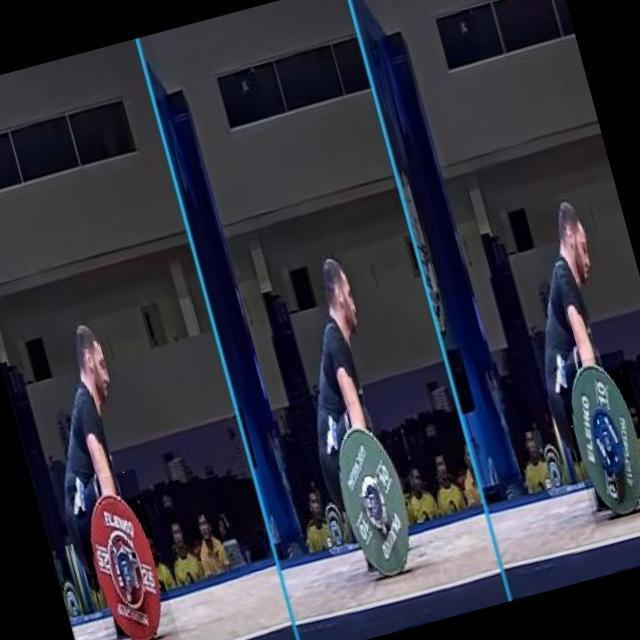barbell: (320, 402, 437, 596), (67, 469, 180, 640), (554, 349, 640, 528)
